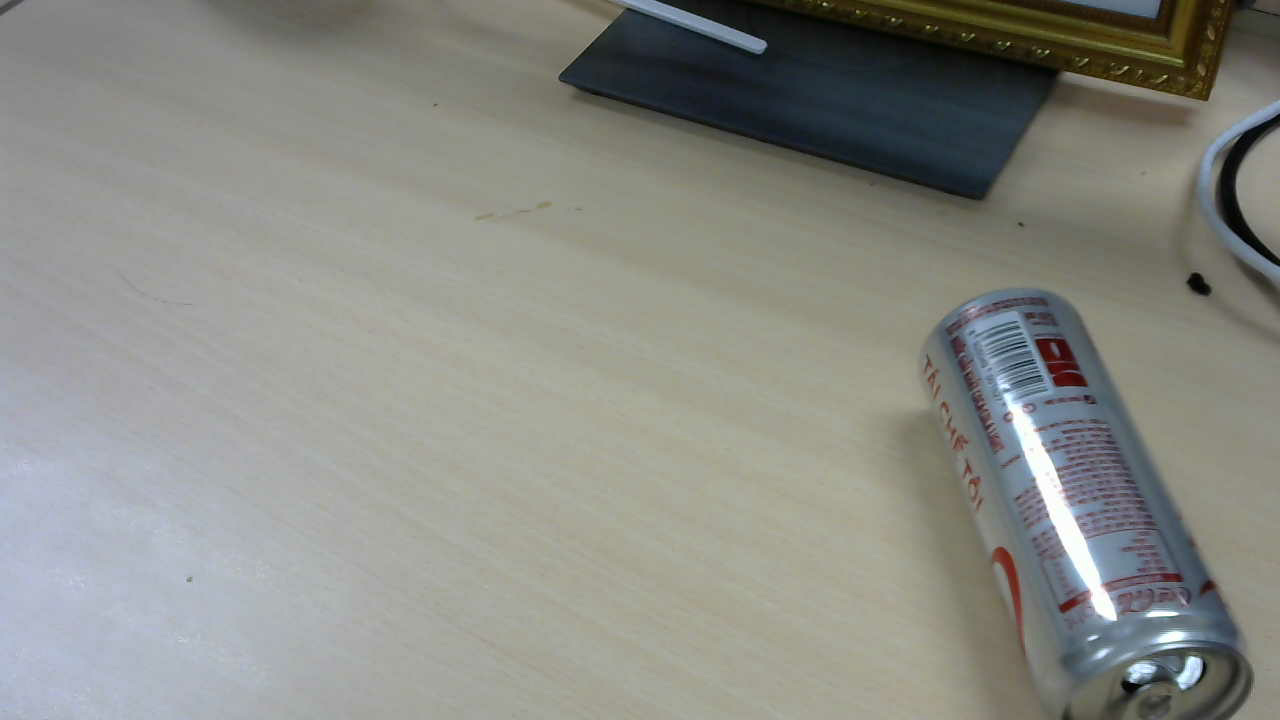Coca_Cola: (918, 292, 1262, 705)
